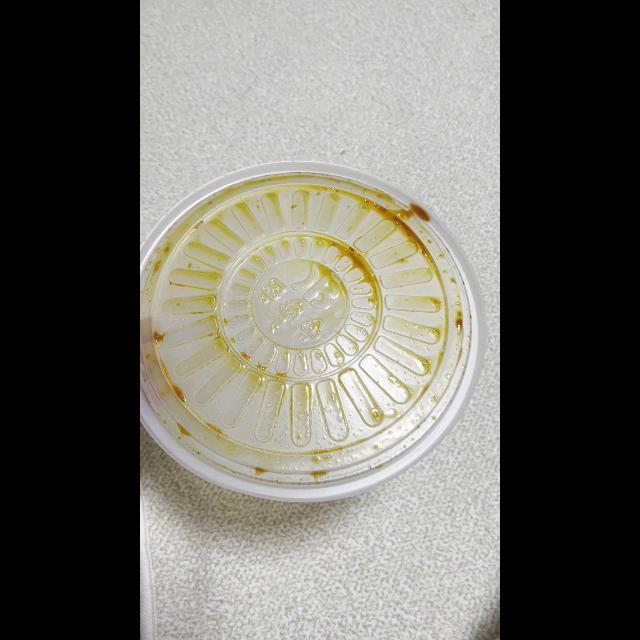dirty: (140, 160, 488, 502)
